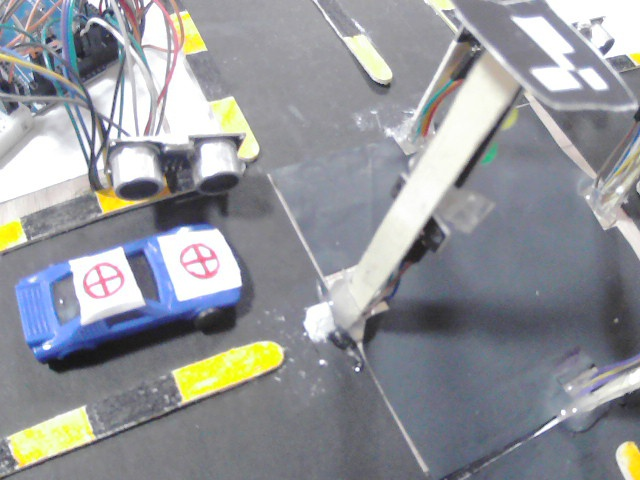aruco_marker: (449, 0, 637, 109)
emergency_vehicle: (14, 220, 244, 365)
traffic_light: (416, 93, 523, 255)
uno_breadboard: (0, 0, 133, 117), (104, 129, 246, 201), (0, 80, 41, 163), (576, 17, 617, 52)
